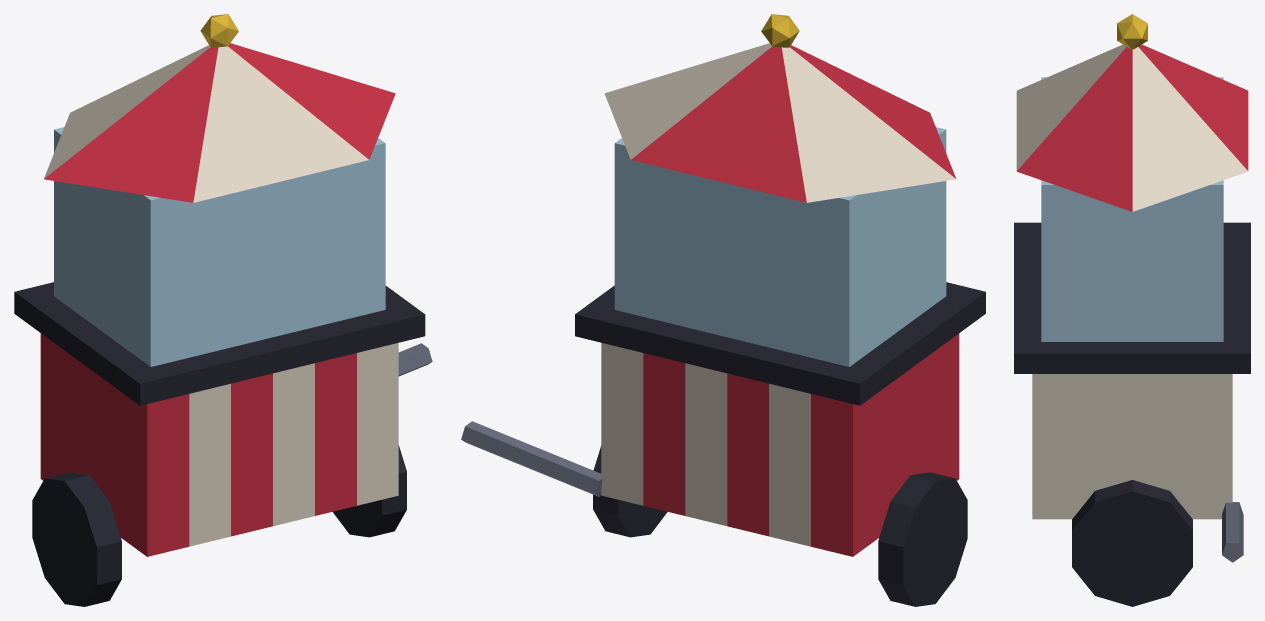
File: popcorn_cart.glb
3 renders of one model, left to right at view 1: azimuth 30°, elevation 25°; view 2: azimuth 150°, elevation 25°; view 3: azimuth 270°, elevation 25°, orthographic. The views are drawn at different scales.
Visible parts, largest first — view 1: popcorn_cart; view 2: popcorn_cart; view 3: popcorn_cart.
Part boxes in pixels (x1,y1,x2,y2): popcorn_cart: (14,14,432,606); popcorn_cart: (461,14,985,606); popcorn_cart: (1014,14,1250,606).
Bounding box in the file's own units: 1.04 × 1.25 × 0.52.
